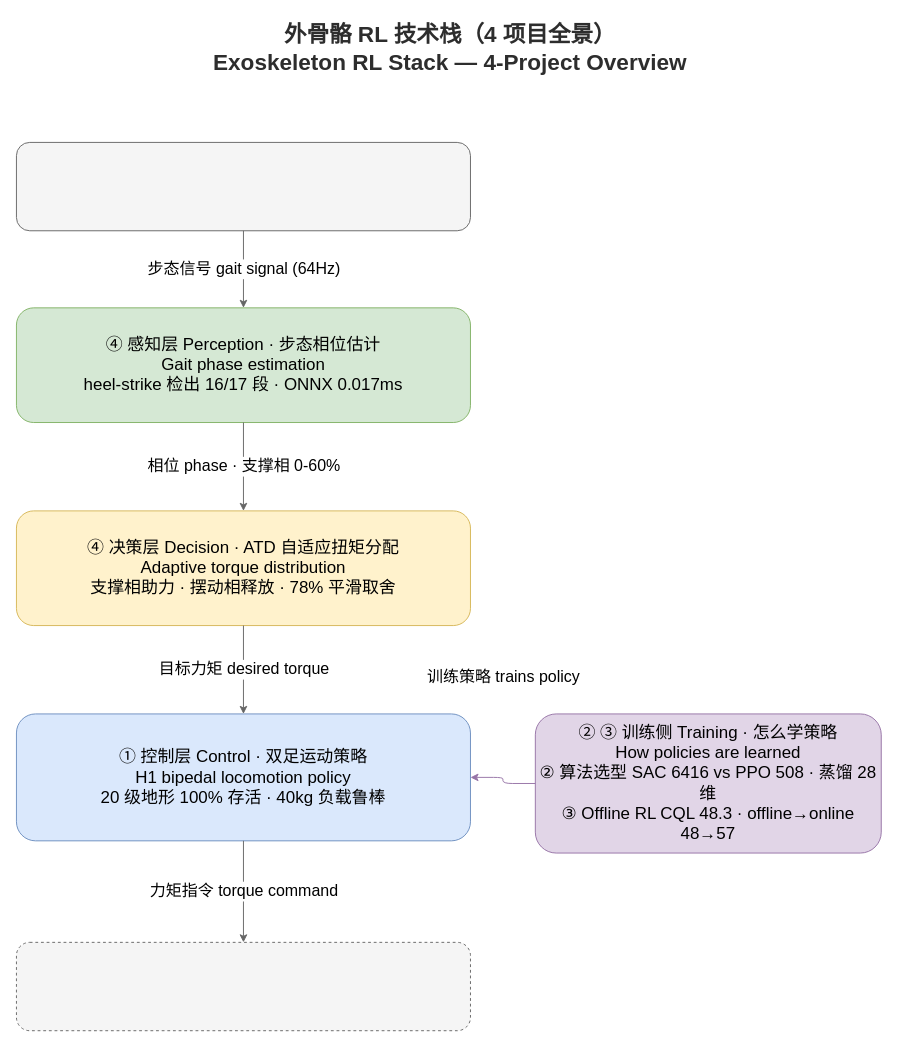
The diagram is 898 pixels wide and 1047 high, and some of its shapes have lost their labels. Each missing label, with the centre of its shape:
外骨骼执行器（设计目标） Exoskeleton actuators (design target): point 243,986
穿戴者 Human wearer 步态数据源 · 踝部加速度 64Hz gait data · ankle accelerometer (Daphnet): point 243,186
